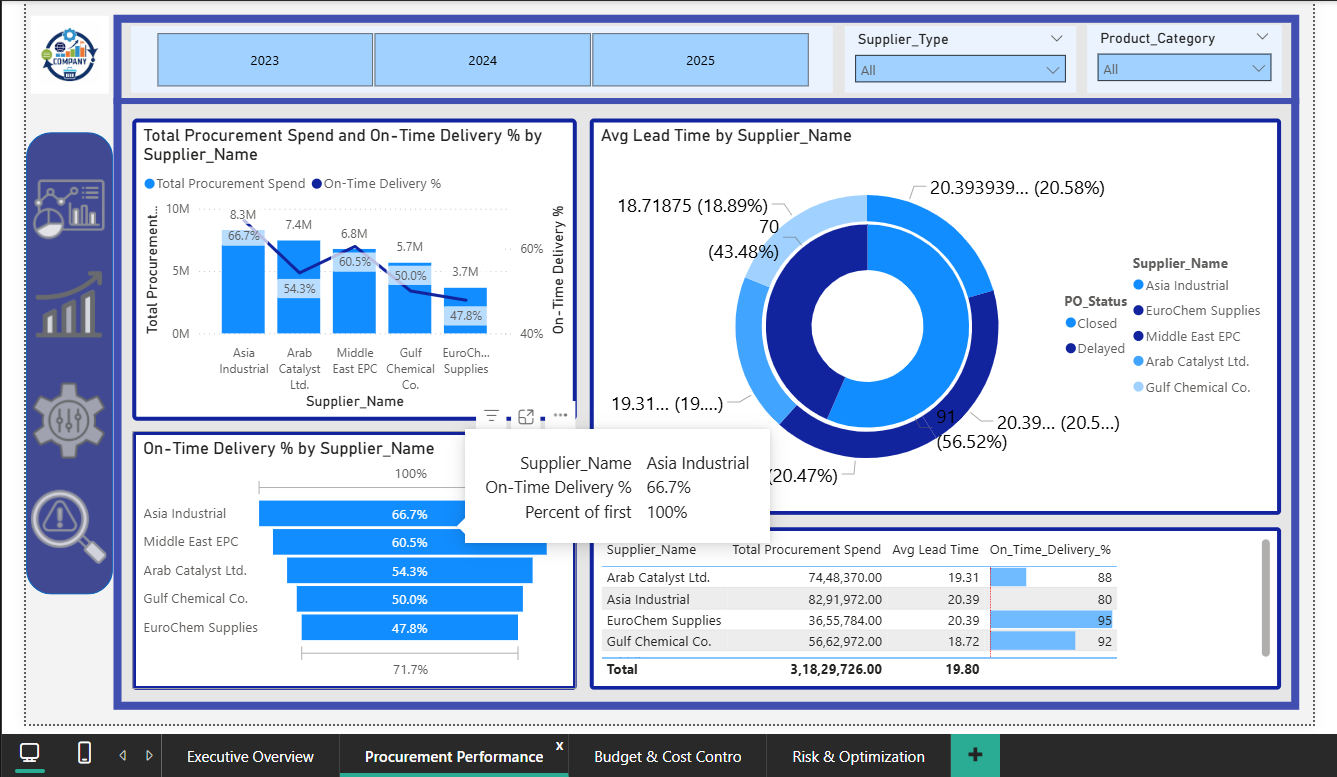

The dashboard page shown, as its layout file describes it:
{"tool":"powerbi","page":{"name":"Procurement Performance","canvas":[1280,720],"ordinal":1},"visuals":[{"type":"shape","box":[0,130,86.7,460],"z":0},{"type":"shape","box":[86.7,13.3,1180,691.7],"z":1000},{"type":"shape","box":[86.7,91.7,1180,15],"z":2000},{"type":"image","box":[0,7.5,87.1,92.1],"z":3000},{"type":"actionButton","box":[0,165.9,86.6,83.7],"z":4000},{"type":"actionButton","box":[0,259.7,86.6,83.7],"z":5000},{"type":"actionButton","box":[0,375.1,86.6,83.7],"z":6000},{"type":"actionButton","box":[0,481.9,86.6,83.7],"z":7000},{"type":"lineClusteredColumnComboChart","fields":{"Category":["Suppliers.Supplier_Name"],"Y":["Table measure.Total Procurement Spend"],"Y2":["Table measure.On-Time Delivery %"]},"box":[105.1,116.6,442.1,301],"z":8000},{"type":"donutChart","fields":{"Category":["Suppliers.Supplier_Name"],"Y":["Table measure.Avg Lead Time"]},"box":[561.6,116.6,688.3,394.6],"z":9000},{"type":"tableEx","fields":{"Values":["Suppliers.Supplier_Name","Table measure.Total Procurement Spend","Table measure.Avg Lead Time","Suppliers.On_Time_Delivery_%"]},"box":[561.6,524.2,688.3,161.3],"z":10000},{"type":"funnel","fields":{"Category":["Suppliers.Supplier_Name"],"Y":["Table measure.On-Time Delivery %"]},"box":[105.1,427.7,442.1,257.8],"z":11000},{"type":"donutChart","fields":{"Category":["Purchase_Orders.PO_Status"],"Y":["Table measure.Total Orders"]},"box":[636.5,180,482.4,286.6],"z":12000},{"type":"slicer","fields":{"Values":["Date.Year"]},"box":[105,25,698.3,66.7],"z":13000},{"type":"slicer","fields":{"Values":["Products.Product_Category"]},"box":[1056.7,23.3,193.3,68.3],"z":14000},{"type":"slicer","fields":{"Values":["Suppliers.Supplier_Type"]},"box":[815,25,230,66.7],"z":15000}]}

Visuals, with their boxes on the page's 1280x720 design canvas (x1, y1, x2, y2). These are canvas units, not pixel positions in the 1337x777 screenshot, which may show the page scaled, cropped or inside an application window:
shape: x1=0, y1=130, x2=87, y2=590
shape: x1=87, y1=13, x2=1267, y2=705
shape: x1=87, y1=92, x2=1267, y2=107
image: x1=0, y1=8, x2=87, y2=100
actionButton: x1=0, y1=166, x2=87, y2=250
actionButton: x1=0, y1=260, x2=87, y2=343
actionButton: x1=0, y1=375, x2=87, y2=459
actionButton: x1=0, y1=482, x2=87, y2=566
lineClusteredColumnComboChart - Suppliers.Supplier_Name x Table measure.Total Procurement Spend: x1=105, y1=117, x2=547, y2=418
donutChart - Suppliers.Supplier_Name x Table measure.Avg Lead Time: x1=562, y1=117, x2=1250, y2=511
tableEx - Suppliers.Supplier_Name x Table measure.Total Procurement Spend: x1=562, y1=524, x2=1250, y2=686
funnel - Suppliers.Supplier_Name x Table measure.On-Time Delivery %: x1=105, y1=428, x2=547, y2=686
donutChart - Purchase_Orders.PO_Status x Table measure.Total Orders: x1=636, y1=180, x2=1119, y2=467
slicer - Date.Year: x1=105, y1=25, x2=803, y2=92
slicer - Products.Product_Category: x1=1057, y1=23, x2=1250, y2=92
slicer - Suppliers.Supplier_Type: x1=815, y1=25, x2=1045, y2=92
